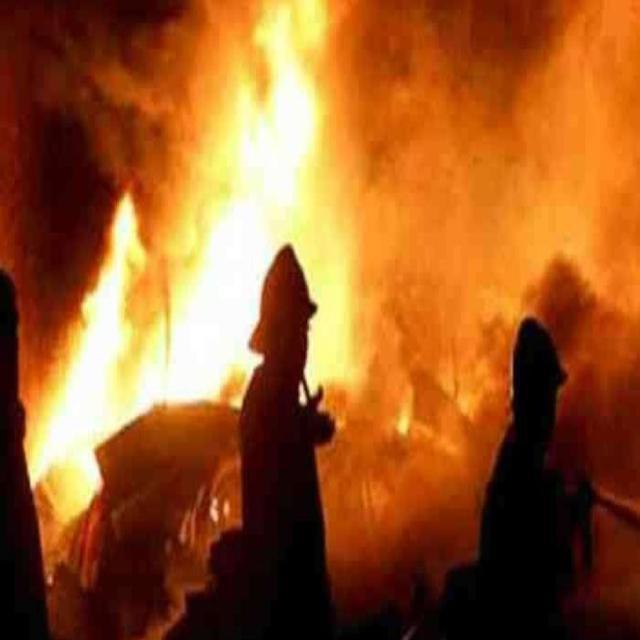Fire: (35, 197, 252, 497), (240, 0, 326, 184)
Smoke: (342, 0, 640, 310), (0, 0, 195, 176)
